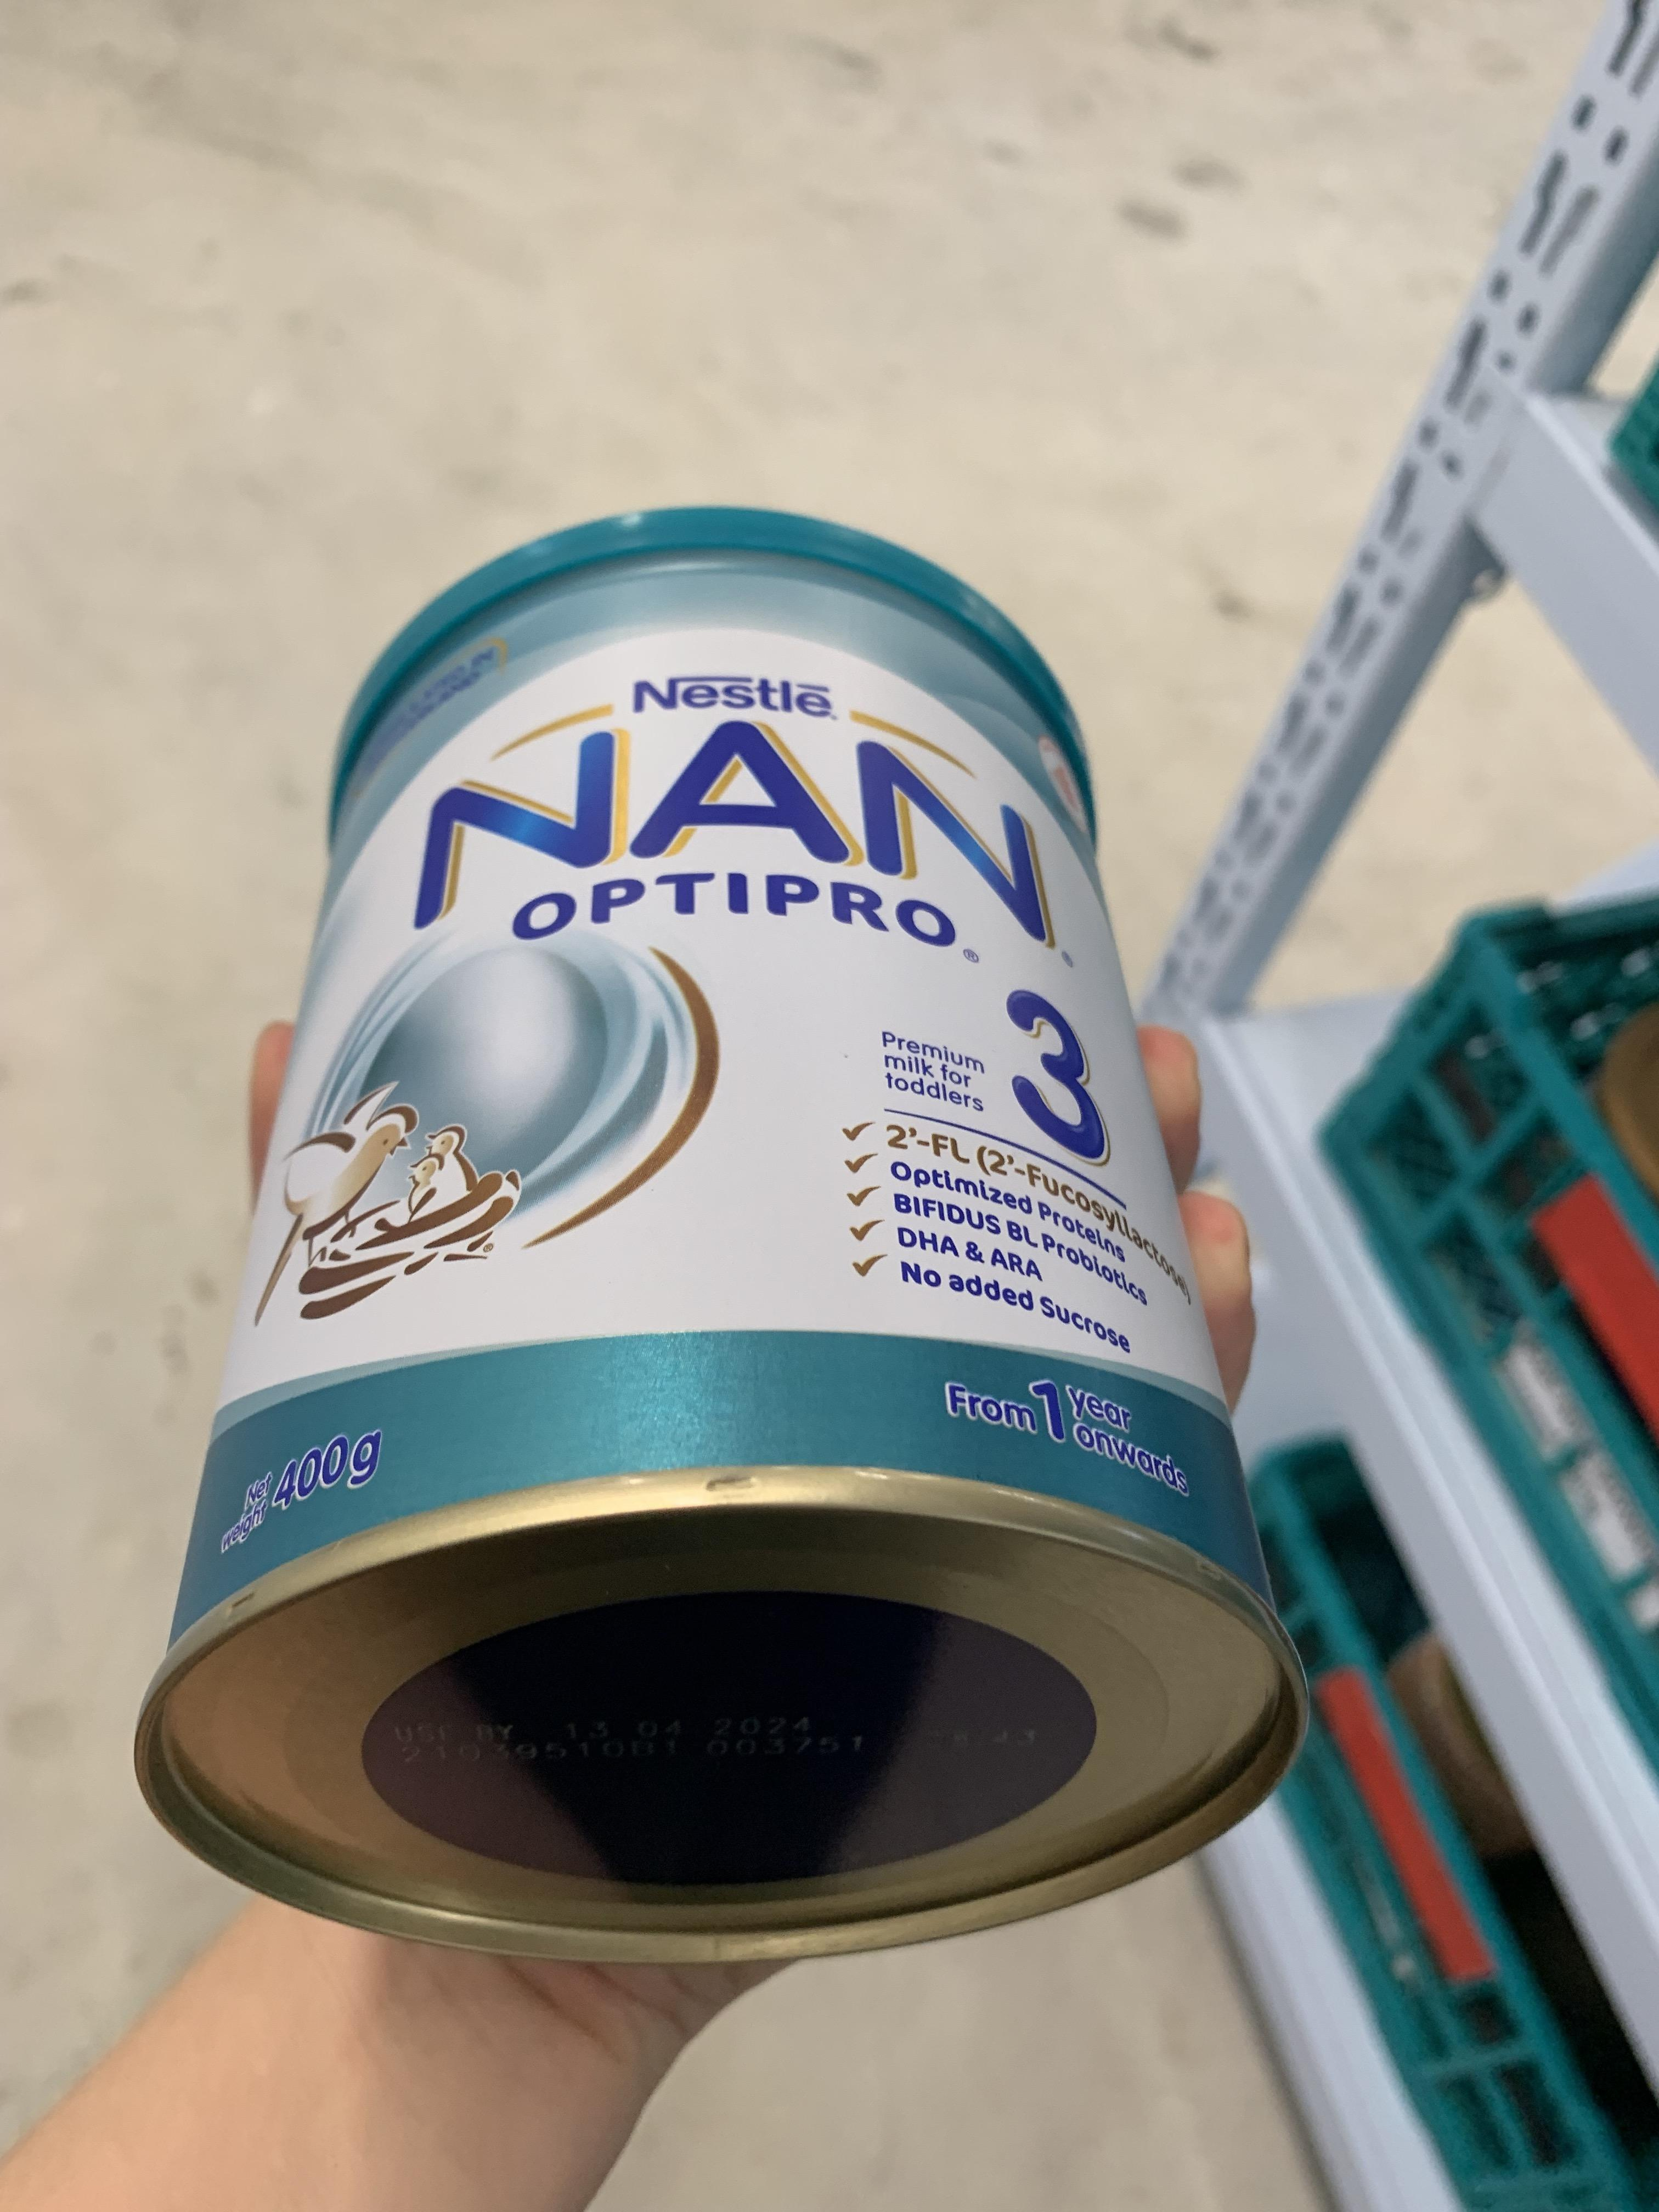object_name: (200, 634, 1195, 1691)
